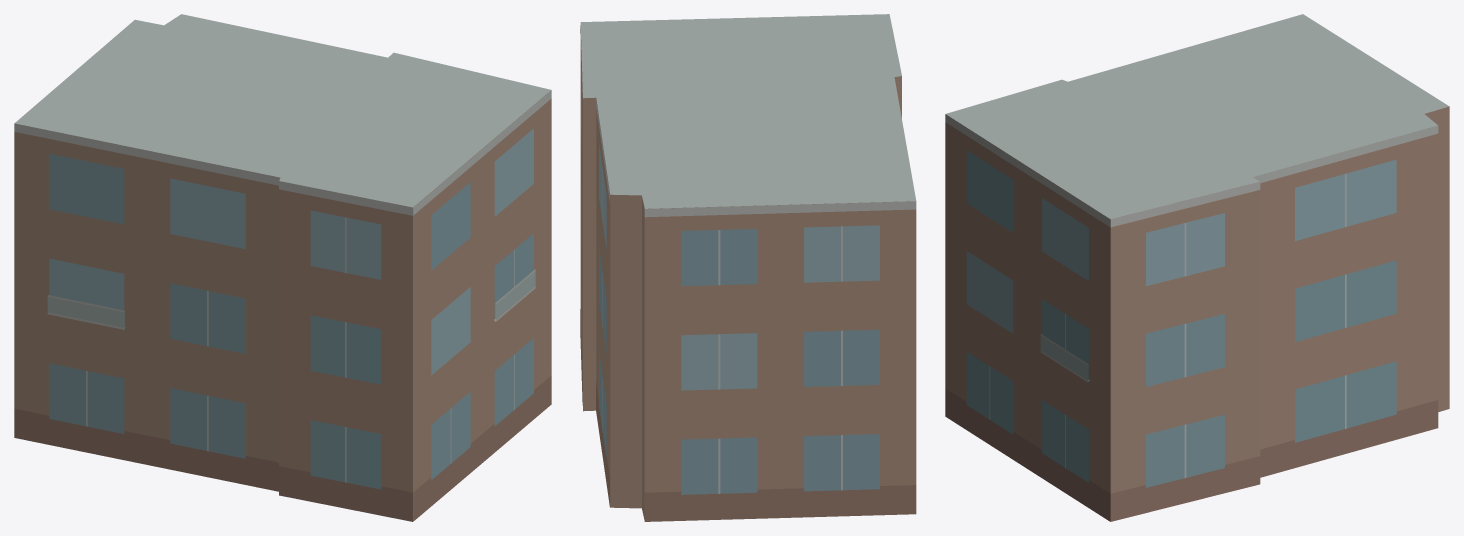
Rendered from survey-upis-32991837.glb.
The picture shows the model from 3 angles, left to right: view 1: azimuth 30°, elevation 25°; view 2: azimuth 150°, elevation 25°; view 3: azimuth 270°, elevation 25°; orthographic projection. The views are drawn at different scales.
Visible parts, largest first — view 1: survey-upis-32991837.tmp; view 2: survey-upis-32991837.tmp; view 3: survey-upis-32991837.tmp.
Boxes of the visible parts, box(x1,y1,x2,y2) form: survey-upis-32991837.tmp: box(14, 14, 551, 521); survey-upis-32991837.tmp: box(580, 14, 916, 521); survey-upis-32991837.tmp: box(945, 14, 1449, 521).
Size of the model in its own units: 13.33 by 9.15 by 13.83.
